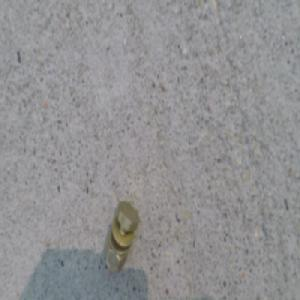BoltNutSet: (108, 196, 141, 268)
